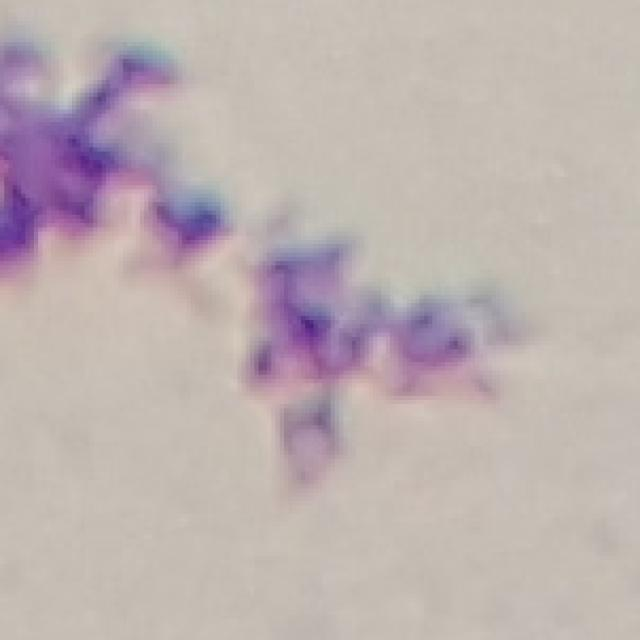non-sperm: (241, 234, 518, 475), (0, 30, 231, 281)
